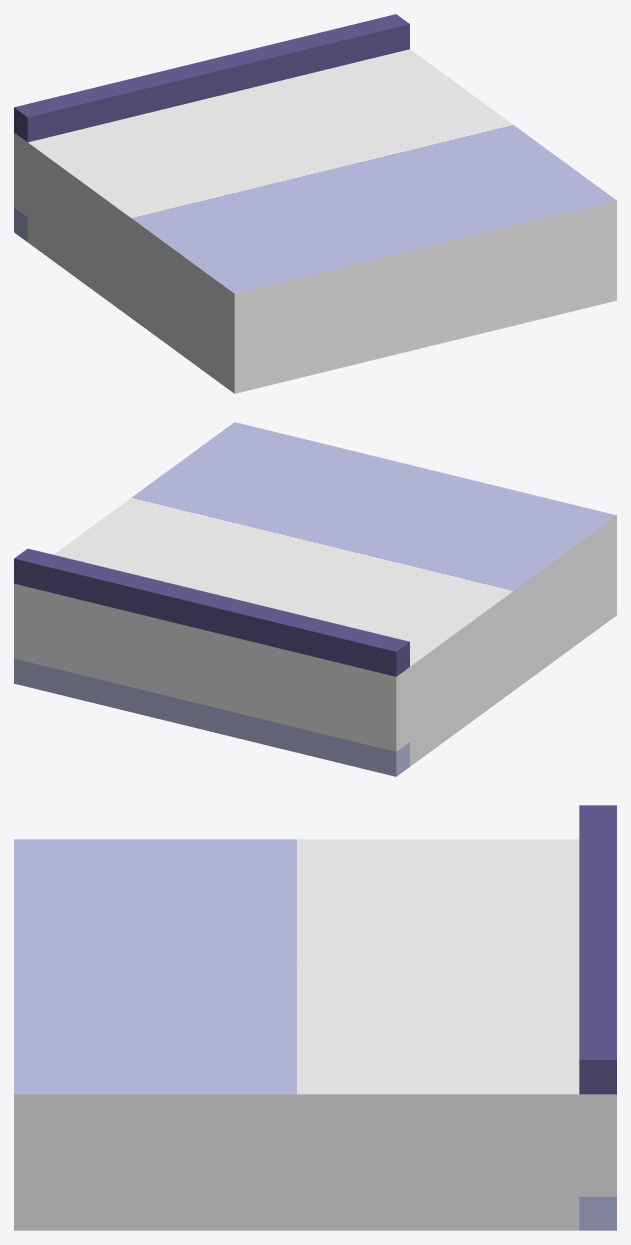
Rendered from BuildingRoofEdgeMiddle.gltf.
3 renders of one model, top to bottom at view 1: azimuth 30°, elevation 25°; view 2: azimuth 150°, elevation 25°; view 3: azimuth 270°, elevation 25°, orthographic. The views are drawn at different scales.
Visible parts, largest first — view 1: BuildingRoofEdgeMiddle; view 2: BuildingRoofEdgeMiddle; view 3: BuildingRoofEdgeMiddle.
Part boxes in pixels (box(x1,y1,x2,y2)): BuildingRoofEdgeMiddle: box(14, 14, 616, 393); BuildingRoofEdgeMiddle: box(14, 422, 616, 776); BuildingRoofEdgeMiddle: box(14, 805, 616, 1230).
Size of the model in its own units: 1 by 0.3125 by 1.
Materials: 1 (1 with a texture image).
